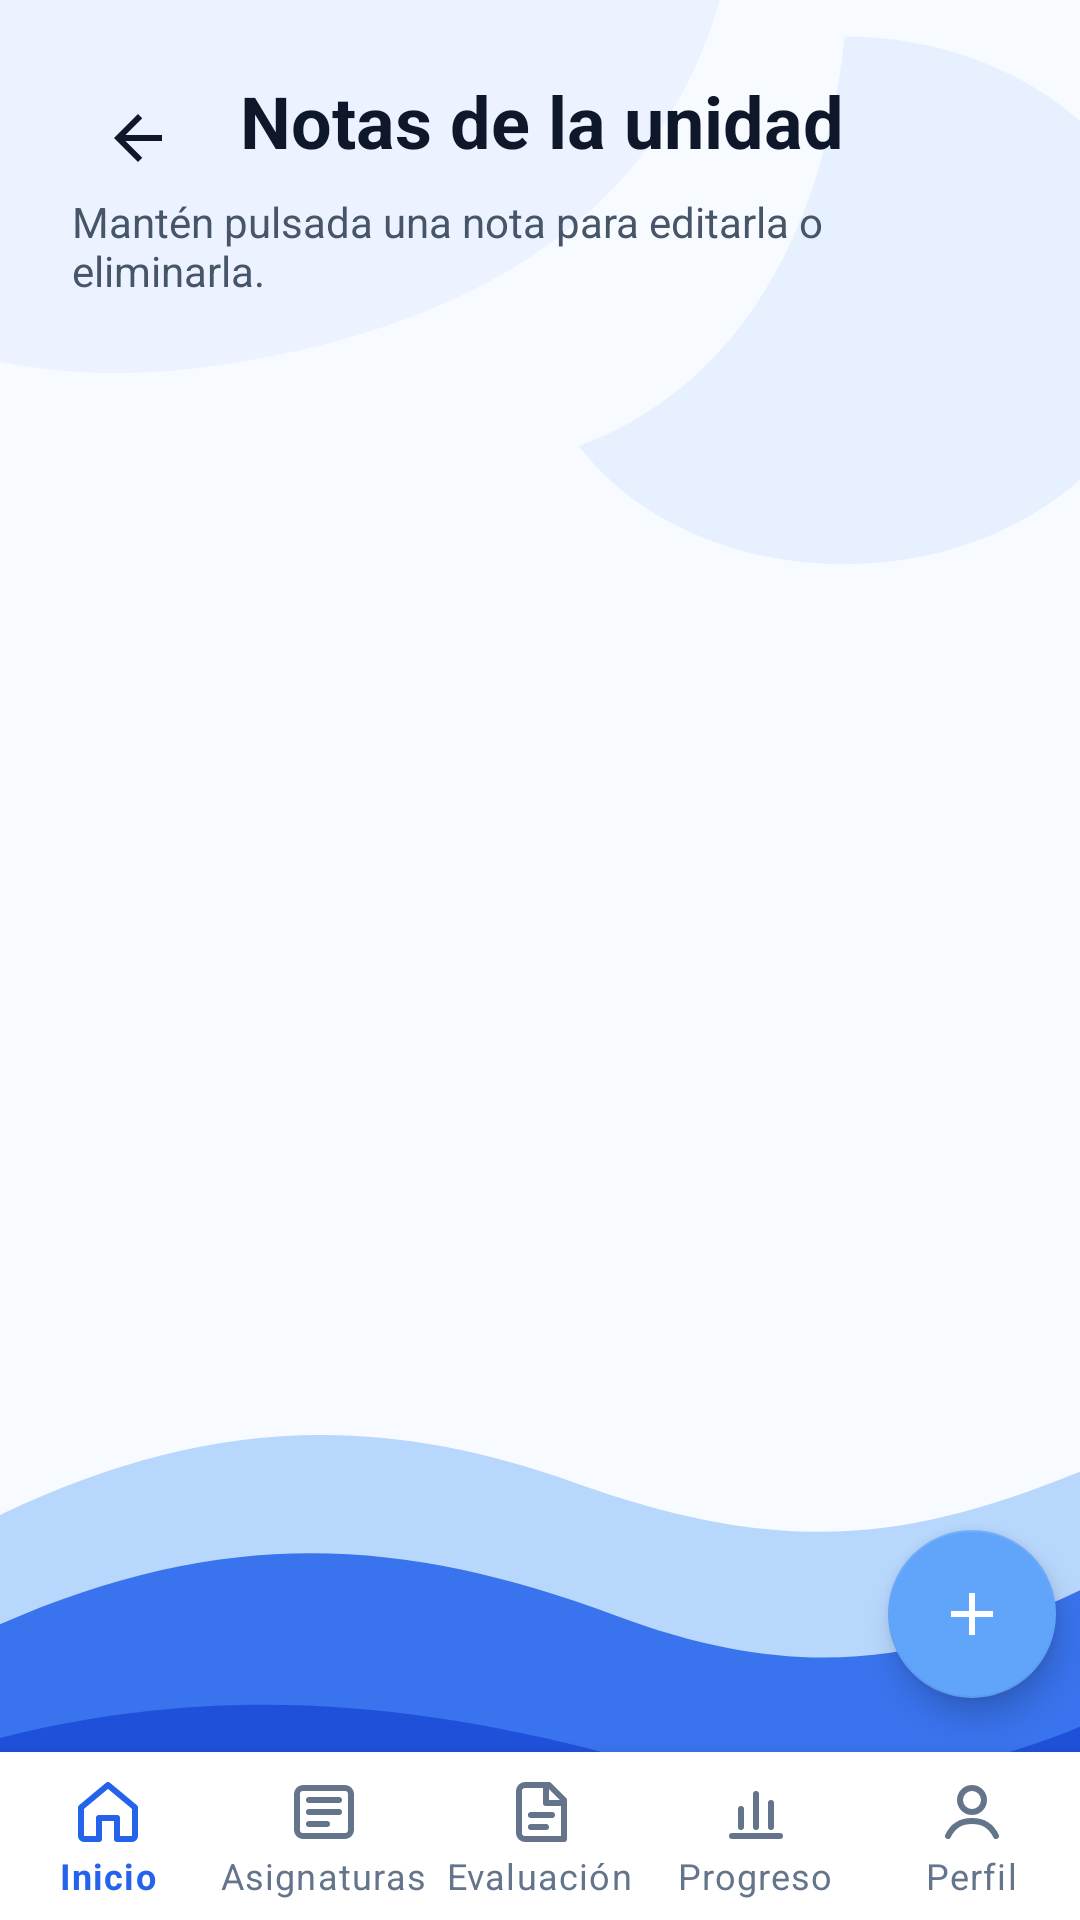

Screen size 1080*1920. Icon name, then its center in pixels as (x=x, y=y):
Añadir nota: (x=972, y=1614)
Volver a unidades: (x=138, y=138)
